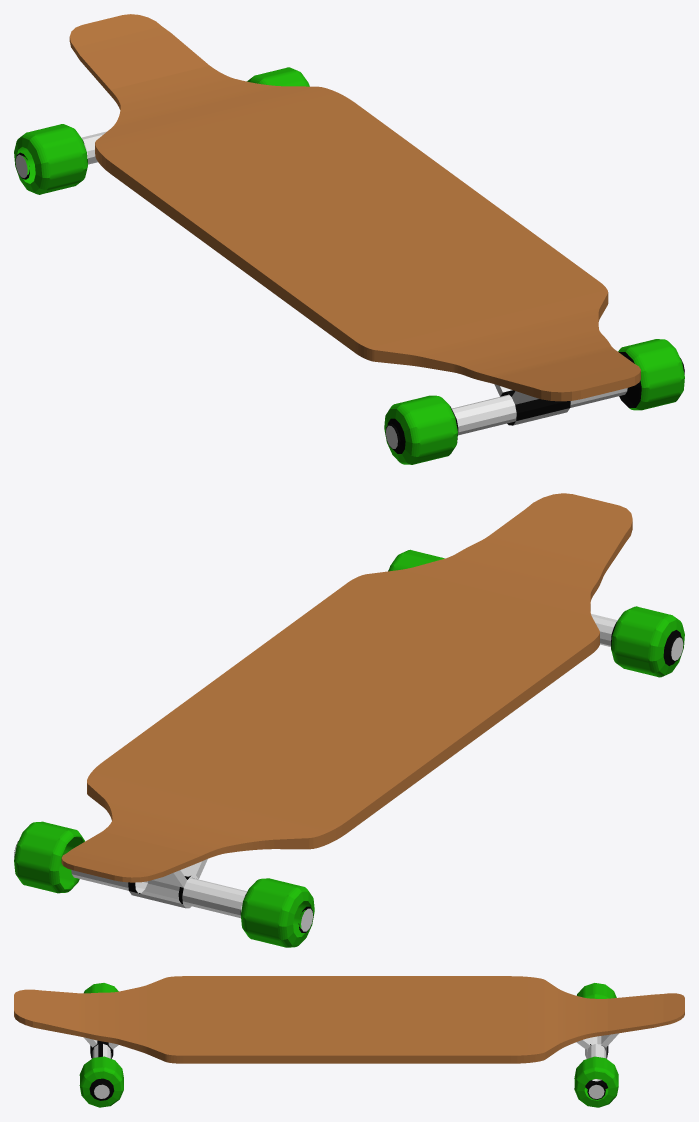
File: dog.gltf
3 views of the same model, one above another, from view 1: azimuth 30°, elevation 25°; view 2: azimuth 150°, elevation 25°; view 3: azimuth 270°, elevation 25° (orthographic). The views are drawn at different scales.
Visible parts, largest first — view 1: Plane; view 2: Plane; view 3: Plane.
Part boxes in pixels (box(x1,y1,x2,y2)): Plane: box(14, 14, 684, 464); Plane: box(14, 493, 684, 947); Plane: box(14, 976, 684, 1107).
Bounding box in the file's own units: 2.88 × 0.9177 × 8.75.
